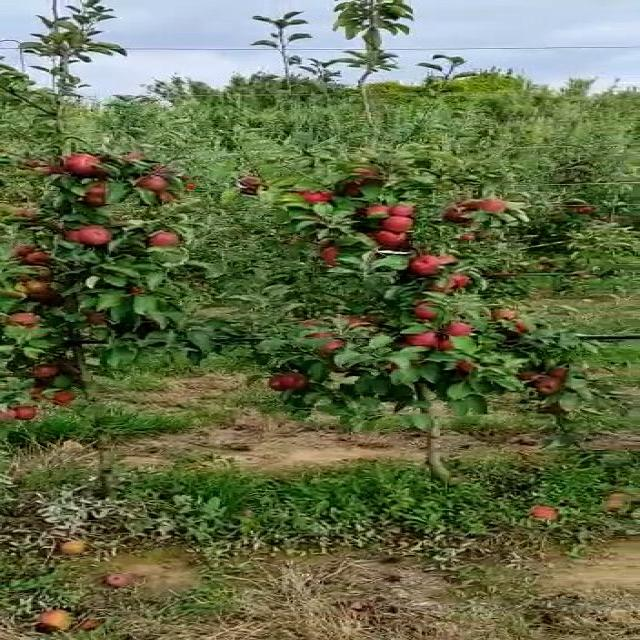100-_ripeness: (400, 252, 449, 275), (144, 227, 191, 246), (15, 283, 60, 301), (66, 152, 98, 177), (411, 331, 451, 351), (372, 227, 414, 246), (131, 176, 169, 196), (413, 300, 445, 322), (271, 371, 305, 391), (474, 195, 511, 213), (291, 190, 329, 207), (74, 229, 111, 244), (375, 215, 409, 231), (534, 377, 564, 395), (318, 339, 351, 355), (2, 404, 33, 421), (360, 203, 395, 217), (442, 322, 478, 334)
